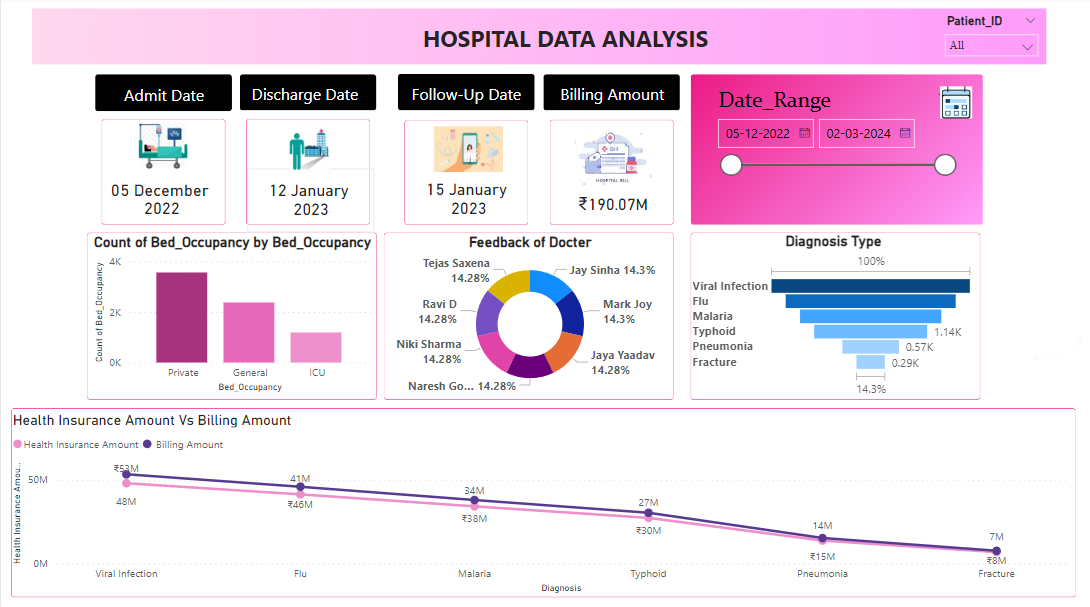

This screenshot's page, from the dashboard's own definition file:
{"tool":"powerbi","page":{"name":"Page 1","canvas":[1280,720],"ordinal":0},"visuals":[{"type":"slicer","fields":{"Values":["Sheet1.Patient_ID"]},"box":[1096.7,16.7,130,66.7],"z":0},{"type":"textbox","box":[490,26.7,380,46.7],"z":1000},{"type":"card","fields":{"Values":["Sheet1.Admit_Date"]},"box":[113.8,193.8,148.8,90],"z":2000},{"type":"textbox","box":[138.8,97.5,176.2,42.5],"z":3000},{"type":"textbox","box":[288.8,96.2,163.8,43.8],"z":4000},{"type":"card","fields":{"Values":["Sheet1.Discharge_Date"]},"box":[288.8,202.5,150,73.8],"z":5000},{"type":"textbox","box":[476.2,96.2,173.8,43.8],"z":6000},{"type":"card","fields":{"Values":["Sheet1.Followup Date"]},"box":[478.3,198.3,141.7,80],"z":7000},{"type":"textbox","box":[650,96.2,165,43.8],"z":8000},{"type":"card","fields":{"Values":["Sheet1.Billing Amount"]},"box":[660,218.3,116.7,51.7],"z":9000},{"type":"slicer","fields":{"Values":["Sheet1.Admit_Date"]},"box":[827.5,101.2,302.5,248.8],"z":10000},{"type":"columnChart","fields":{"Category":["Sheet1.Bed_Occupancy"],"Y":["Sheet1.Bed_Occupancy"]},"box":[103.8,278.8,335,191.2],"z":11000},{"type":"donutChart","title":"Feedback of Docter","fields":{"Category":["Sheet1.Doctor"],"Y":["Sheet1.Doctor"]},"box":[452.5,278.8,335,193.8],"z":12000},{"type":"funnel","title":" Diagnosis  Type","fields":{"Category":["Sheet1.Diagnosis"],"Y":["Sheet1.Diagnosis"]},"box":[806.2,276.2,340,196.2],"z":13000},{"type":"lineChart","title":" Health Insurance Amount Vs Billing Amount ","fields":{"Category":["Sheet1.Diagnosis"],"Y":["Sheet1.Health Insurance Amount","Sheet1.Billing Amount"]},"box":[8.8,486.2,1245,218.8],"z":14000},{"type":"image","box":[156.2,140,66.2,66.2],"z":15000},{"type":"image","box":[315,140,92.5,78.8],"z":16000},{"type":"image","box":[500,147.5,96.2,63.8],"z":17000},{"type":"image","box":[1096.2,101.2,47.5,47.5],"z":18000},{"type":"image","box":[660,147.5,116.2,83.8],"z":19000}]}

Visuals, with their boxes in screenshot pixels (x1, y1, x2, y2), scaled from the page's 1280x720 canvas onto the 1090x607 screenshot:
slicer - Sheet1.Patient_ID: box(934, 14, 1045, 70)
textbox: box(417, 23, 741, 62)
card - Sheet1.Admit_Date: box(97, 163, 224, 239)
textbox: box(118, 82, 268, 118)
textbox: box(246, 81, 385, 118)
card - Sheet1.Discharge_Date: box(246, 171, 374, 233)
textbox: box(406, 81, 554, 118)
card - Sheet1.Followup Date: box(407, 167, 528, 235)
textbox: box(554, 81, 694, 118)
card - Sheet1.Billing Amount: box(562, 184, 661, 228)
slicer - Sheet1.Admit_Date: box(705, 85, 962, 295)
columnChart - Sheet1.Bed_Occupancy x Sheet1.Bed_Occupancy: box(88, 235, 374, 396)
"Feedback of Docter" donutChart: box(385, 235, 671, 398)
" Diagnosis  Type" funnel: box(687, 233, 976, 398)
" Health Insurance Amount Vs Billing Amount " lineChart: box(7, 410, 1068, 594)
image: box(133, 118, 189, 174)
image: box(268, 118, 347, 184)
image: box(426, 124, 508, 178)
image: box(933, 85, 974, 125)
image: box(562, 124, 661, 195)
